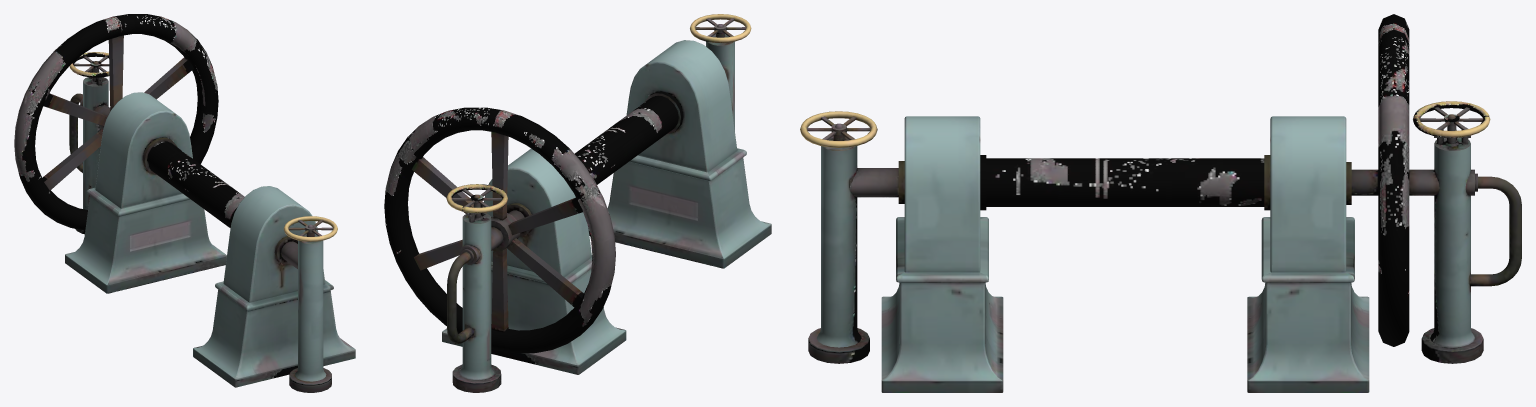
The picture shows the model from 3 angles, left to right: view 1: azimuth 30°, elevation 25°; view 2: azimuth 150°, elevation 25°; view 3: azimuth 270°, elevation 25°; orthographic projection. The views are drawn at different scales.
Parts seen in each view (by area): view 1: body0_model0_lod0_mesh0; view 2: body0_model0_lod0_mesh0; view 3: body0_model0_lod0_mesh0.
Boxes of the visible parts, box(x1,y1,x2,y2) form: body0_model0_lod0_mesh0: box(14, 14, 355, 392); body0_model0_lod0_mesh0: box(384, 14, 771, 392); body0_model0_lod0_mesh0: box(800, 14, 1521, 392).
Size of the model in its own units: 108 by 115 by 234.
1 material, 1 textured.
